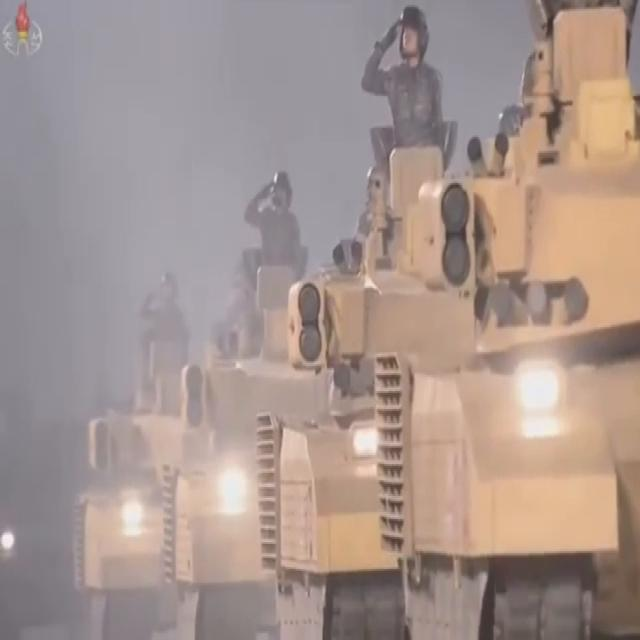north tank: (390, 165, 640, 640), (256, 236, 442, 640), (177, 330, 276, 640), (76, 354, 180, 637)
